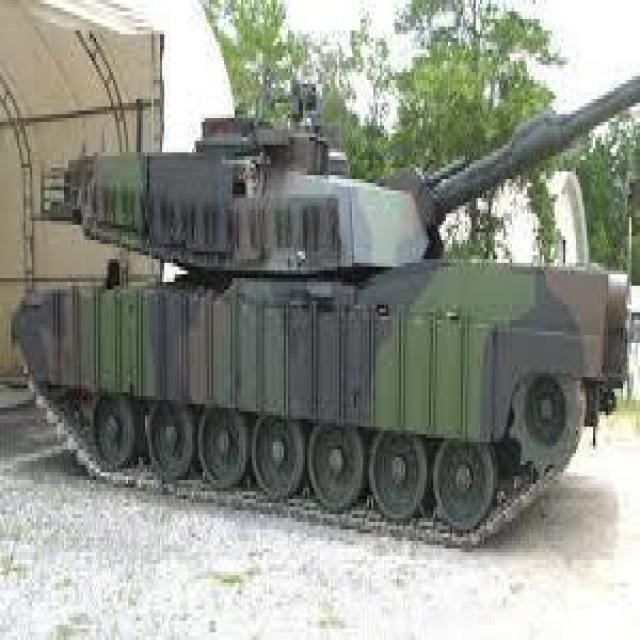Tanks: (28, 64, 627, 548)
